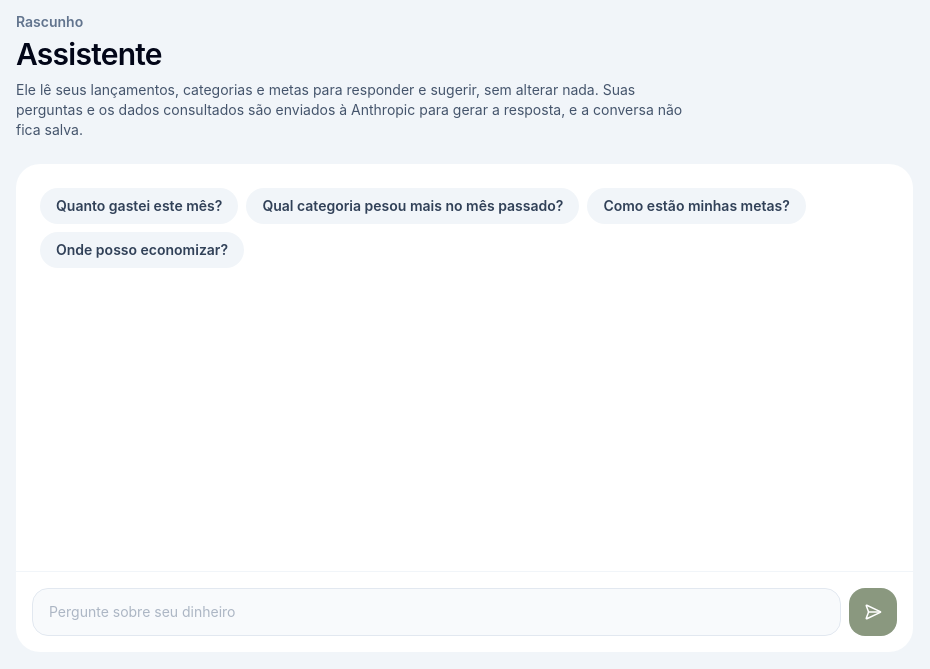
Test: AssistantPage › envia a pergunta e mostra a resposta
Type "Quanto gastei?" into the field named "Pergunta para o assistente" at {"x": 436, "y": 612}, box [32,588,841,636]
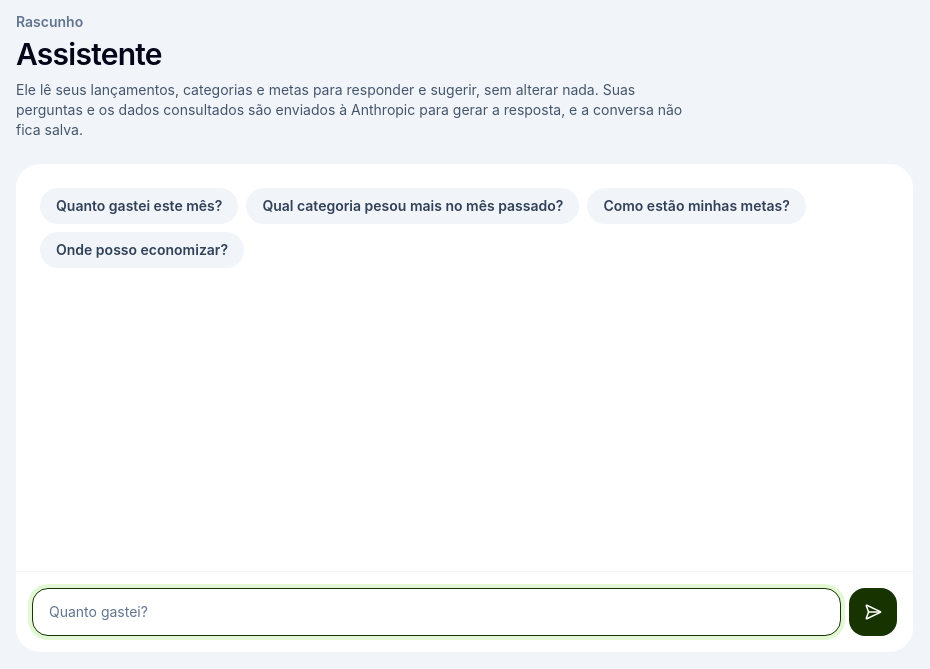
Click the button named "Enviar pergunta" at {"x": 873, "y": 612}, box [849,588,897,636]
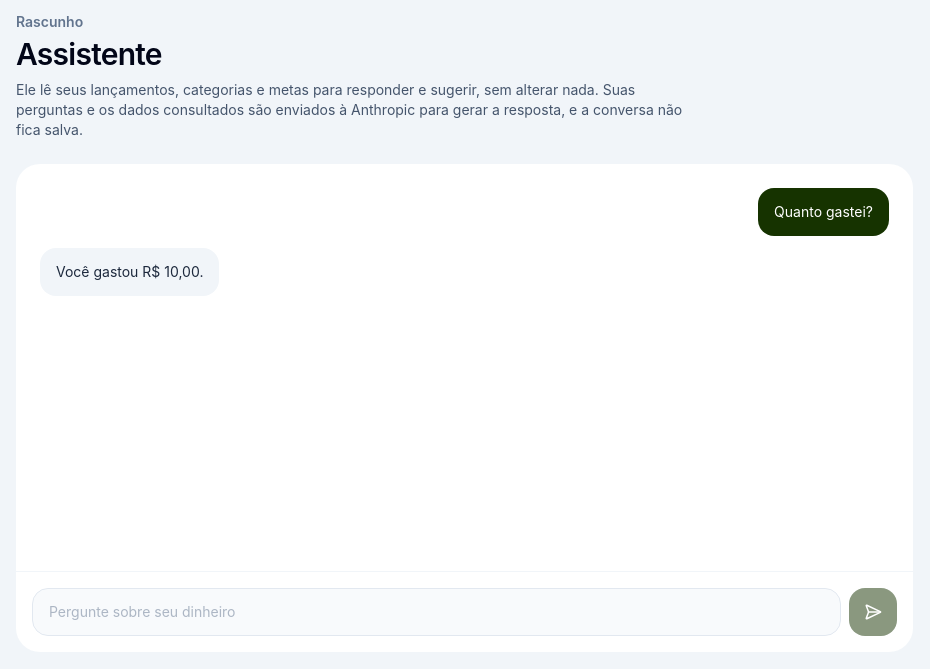
Now the text "Você gastou R$ 10,00." is shown, box [40,248,220,296]
Now the field named "Pergunta para o assistente" is empty, box [32,588,841,636]
